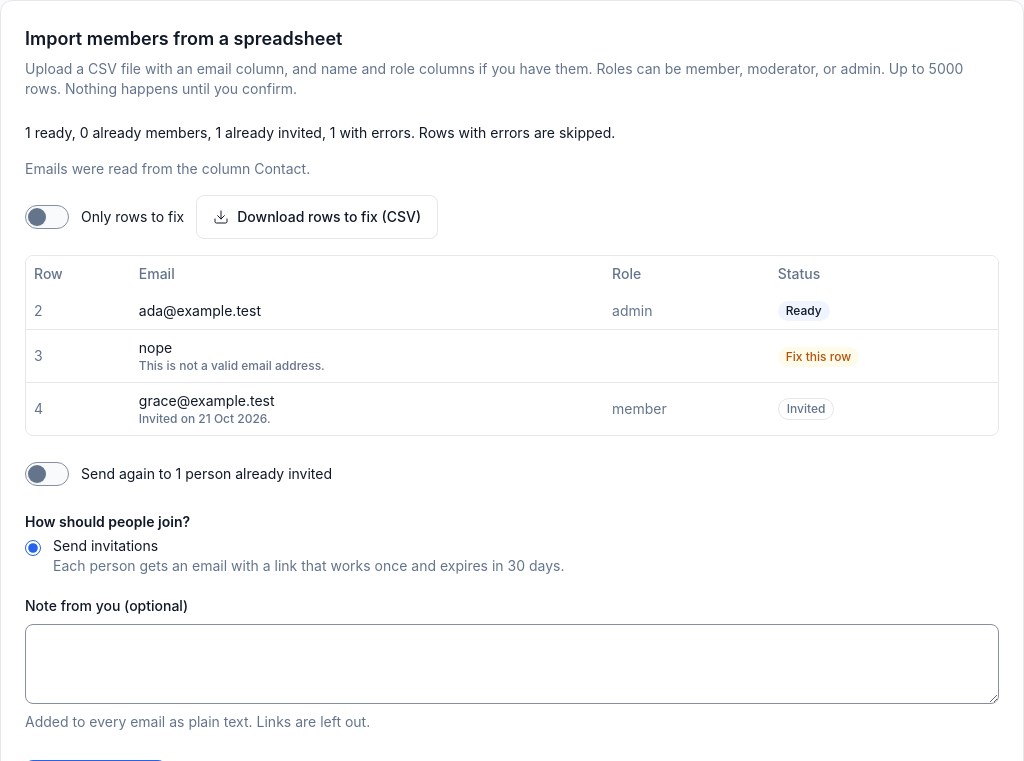
Test case: MembersCsvCard › filters to the rows to fix and offers them as a download
Click the switch named "Only rows to fix". click: [47, 217]
box: left=25, top=205, right=69, bottom=229
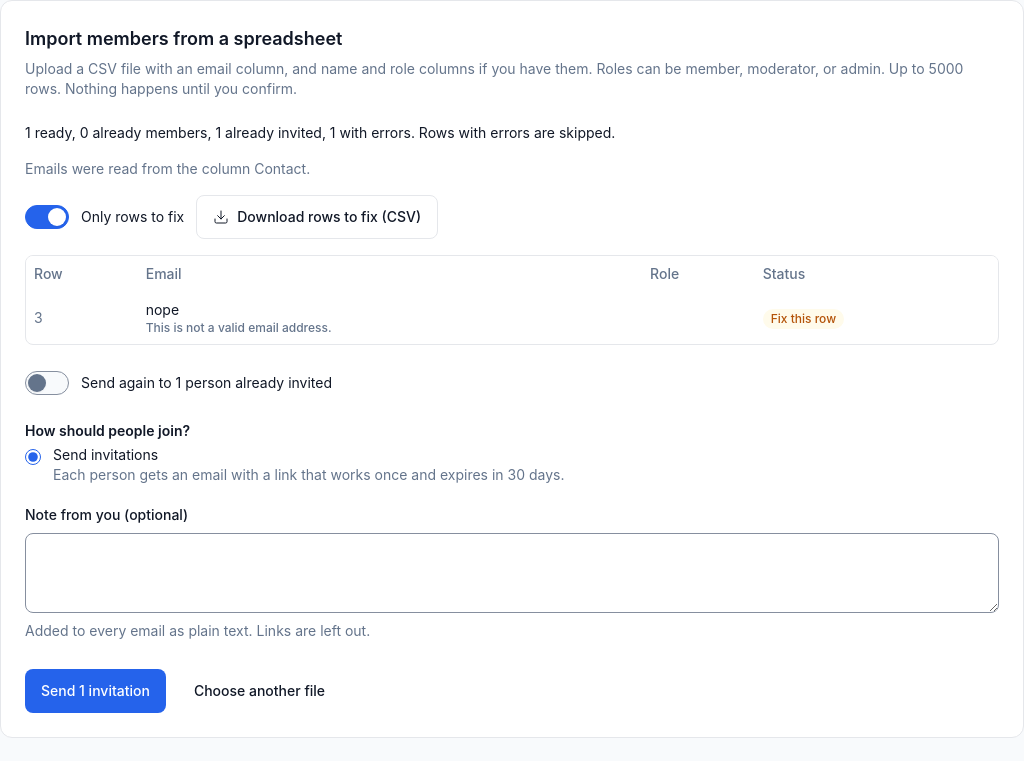
Check: the text "nope" is shown, box left=146, top=301, right=179, bottom=318
Check: the text "ada@example.test" is gone
